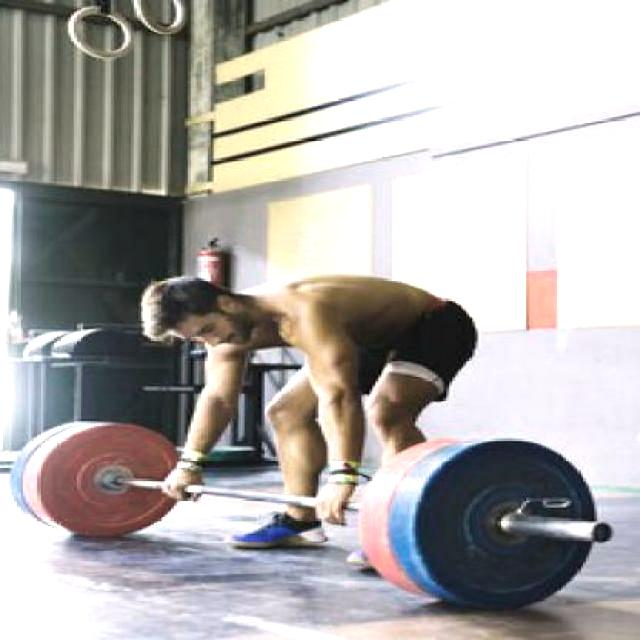barbell: (400, 425, 619, 619)
